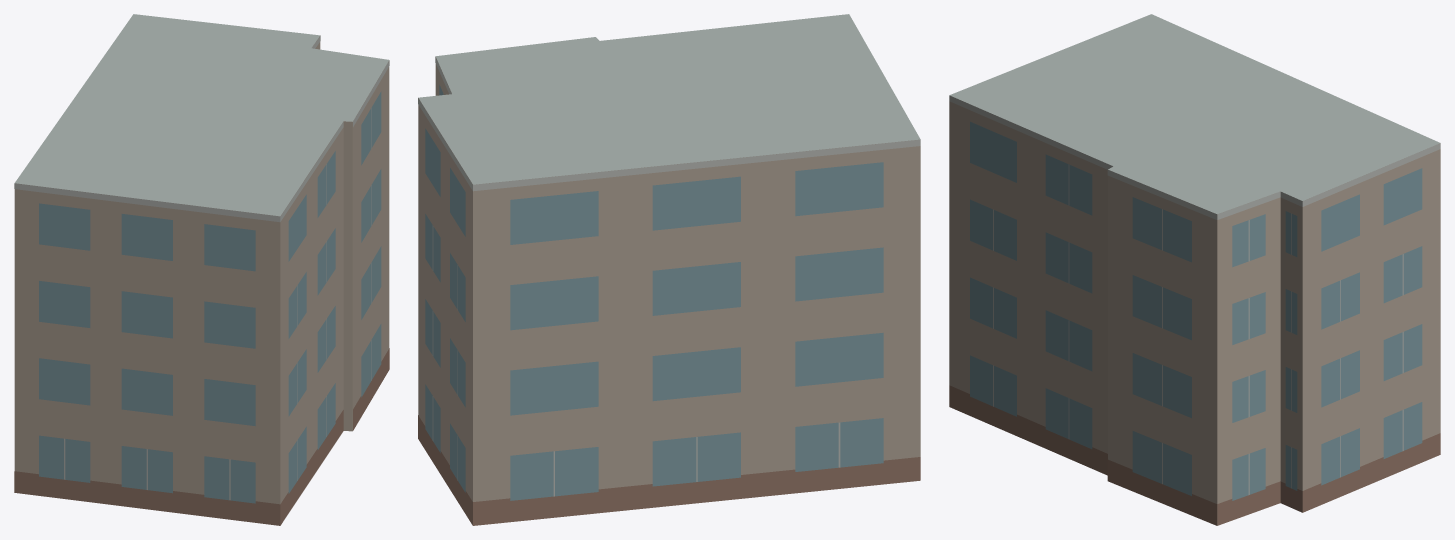
Rendered from survey-upis-32652033.glb.
3 renders of one model, left to right at view 1: azimuth 30°, elevation 25°; view 2: azimuth 150°, elevation 25°; view 3: azimuth 270°, elevation 25°, orthographic. The views are drawn at different scales.
Visible parts, largest first — view 1: survey-upis-32652033.tmp; view 2: survey-upis-32652033.tmp; view 3: survey-upis-32652033.tmp.
Boxes of the visible parts, bbox=[...] form: survey-upis-32652033.tmp: bbox=[14, 14, 389, 525]; survey-upis-32652033.tmp: bbox=[418, 14, 920, 525]; survey-upis-32652033.tmp: bbox=[949, 14, 1440, 525].
Bounding box in the file's own units: 17.65 × 12.8 × 18.3.
